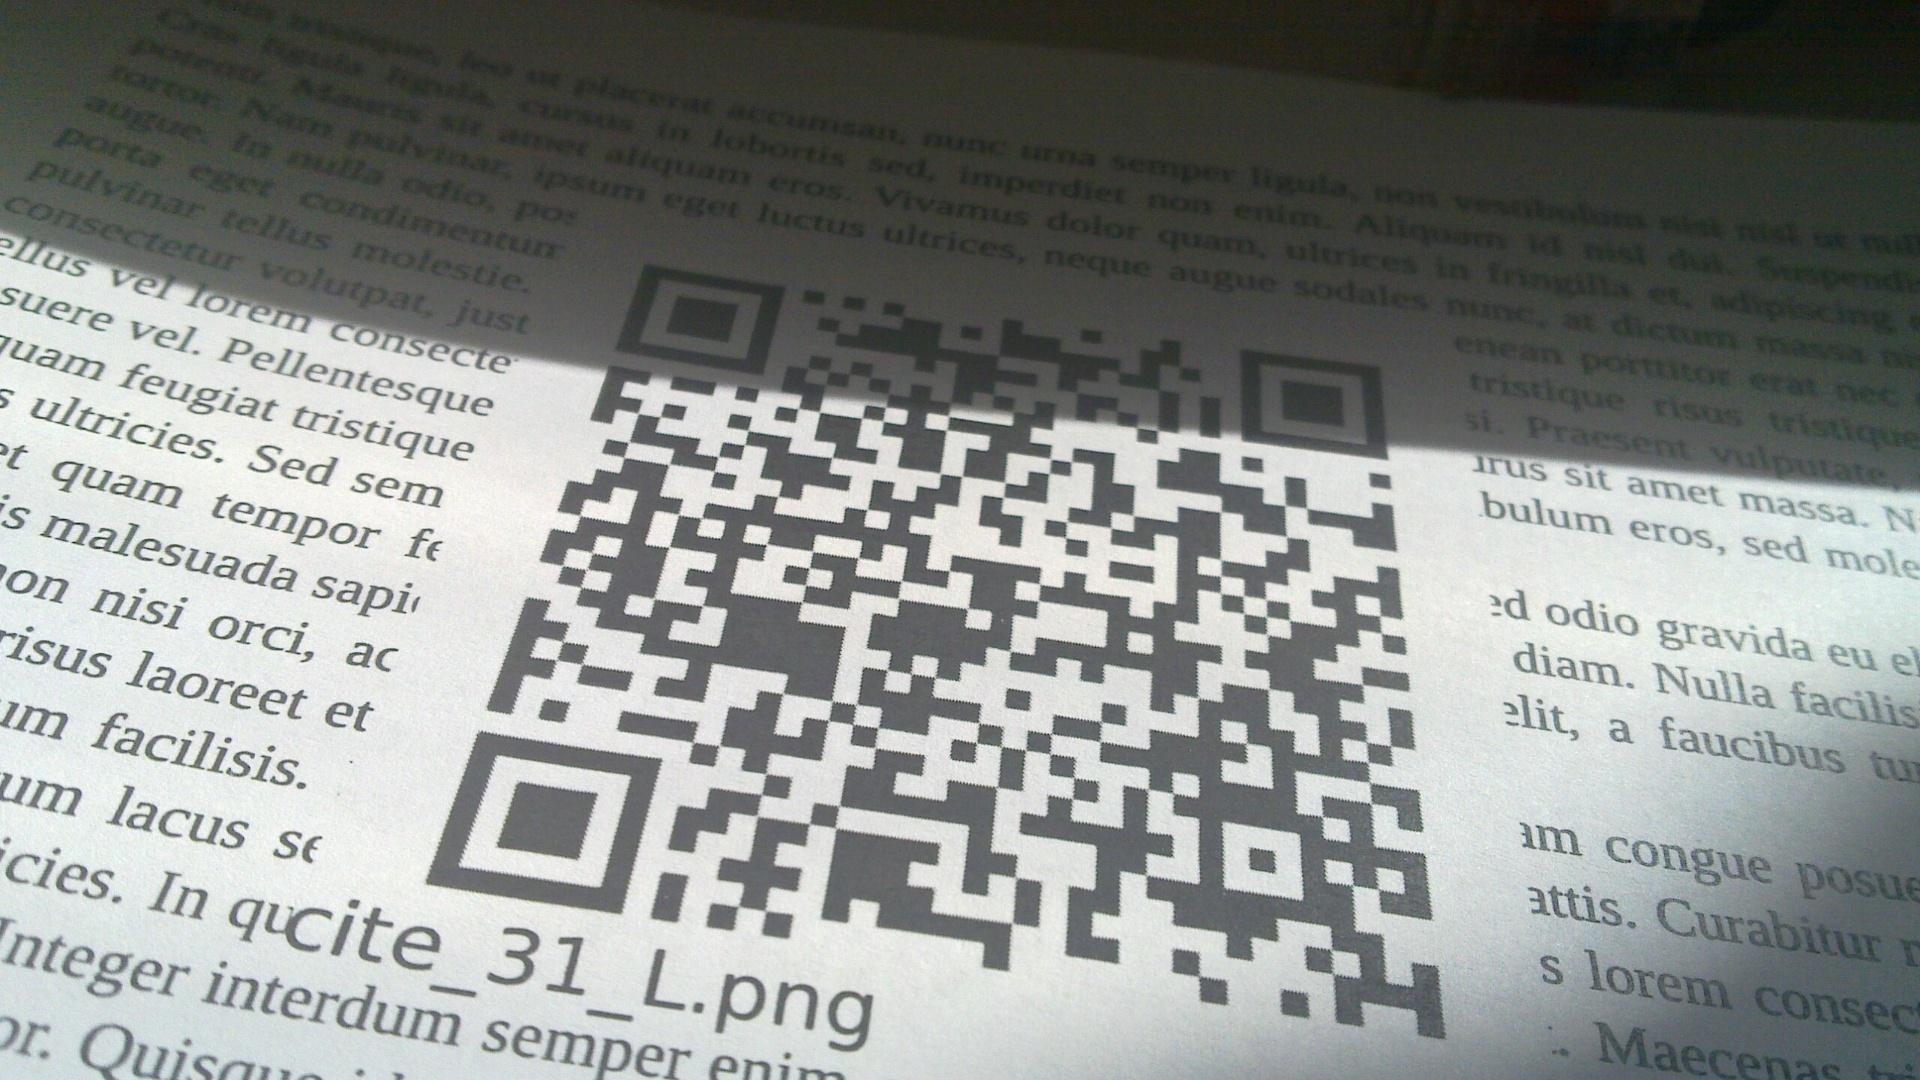qr_code: (423, 261, 1448, 1040)
